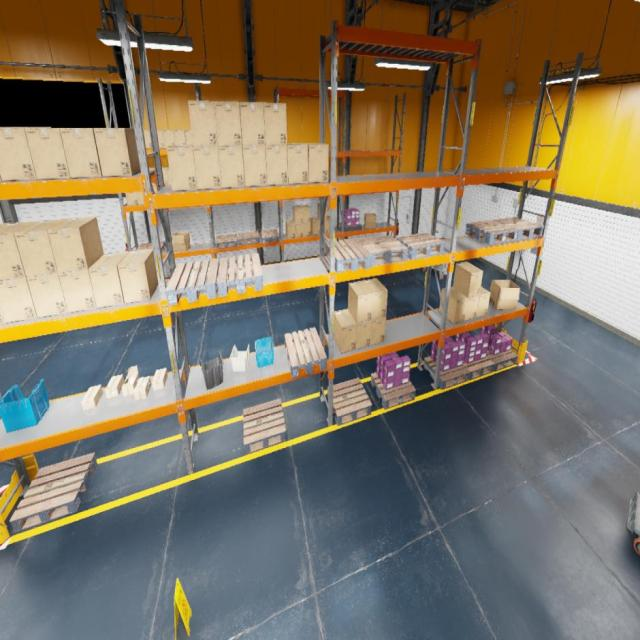box: (48, 216, 104, 272), (14, 219, 68, 277), (25, 127, 70, 180), (93, 128, 141, 176), (0, 222, 39, 280), (118, 248, 158, 304), (88, 252, 128, 308), (60, 127, 102, 178), (0, 128, 37, 180), (27, 273, 68, 318), (0, 277, 37, 323), (58, 269, 96, 312), (166, 145, 198, 191), (188, 100, 218, 146), (193, 146, 222, 190), (214, 101, 242, 146), (240, 102, 266, 145), (439, 286, 468, 324), (218, 146, 244, 188), (454, 261, 484, 297), (348, 280, 373, 322), (242, 146, 267, 187), (302, 143, 328, 182), (334, 308, 356, 354), (264, 103, 288, 145), (364, 278, 388, 319), (348, 309, 372, 349), (489, 280, 520, 310), (266, 146, 288, 186), (454, 286, 479, 321), (288, 143, 308, 184), (121, 365, 139, 396), (81, 385, 103, 410), (105, 374, 124, 398), (370, 317, 386, 345), (476, 287, 490, 318), (134, 376, 151, 400), (152, 368, 167, 391), (172, 232, 190, 251), (162, 130, 175, 148), (173, 130, 186, 144), (364, 213, 376, 228), (286, 220, 296, 238), (318, 217, 328, 234), (310, 218, 320, 235), (318, 203, 328, 220), (125, 192, 138, 205), (301, 205, 310, 222), (293, 205, 302, 222), (161, 166, 169, 185), (144, 130, 152, 149), (156, 130, 164, 148), (328, 216, 336, 233), (149, 167, 156, 186), (295, 223, 303, 237), (185, 130, 192, 144), (303, 223, 310, 236), (0, 305, 5, 323), (137, 192, 144, 204), (167, 167, 171, 184), (153, 186, 157, 193), (0, 223, 7, 225), (0, 174, 1, 180)
pallets: (9, 453, 98, 532), (166, 258, 220, 306), (243, 398, 286, 454), (327, 377, 372, 426), (285, 328, 326, 378), (217, 253, 263, 297), (371, 372, 416, 410), (326, 238, 371, 272), (357, 235, 408, 265), (424, 356, 469, 390), (396, 233, 445, 259), (465, 220, 518, 244), (493, 217, 544, 240), (463, 355, 494, 380), (486, 349, 518, 371), (137, 242, 166, 254), (215, 234, 238, 249), (238, 231, 260, 246), (261, 229, 279, 244), (340, 223, 362, 232), (432, 262, 448, 270)
